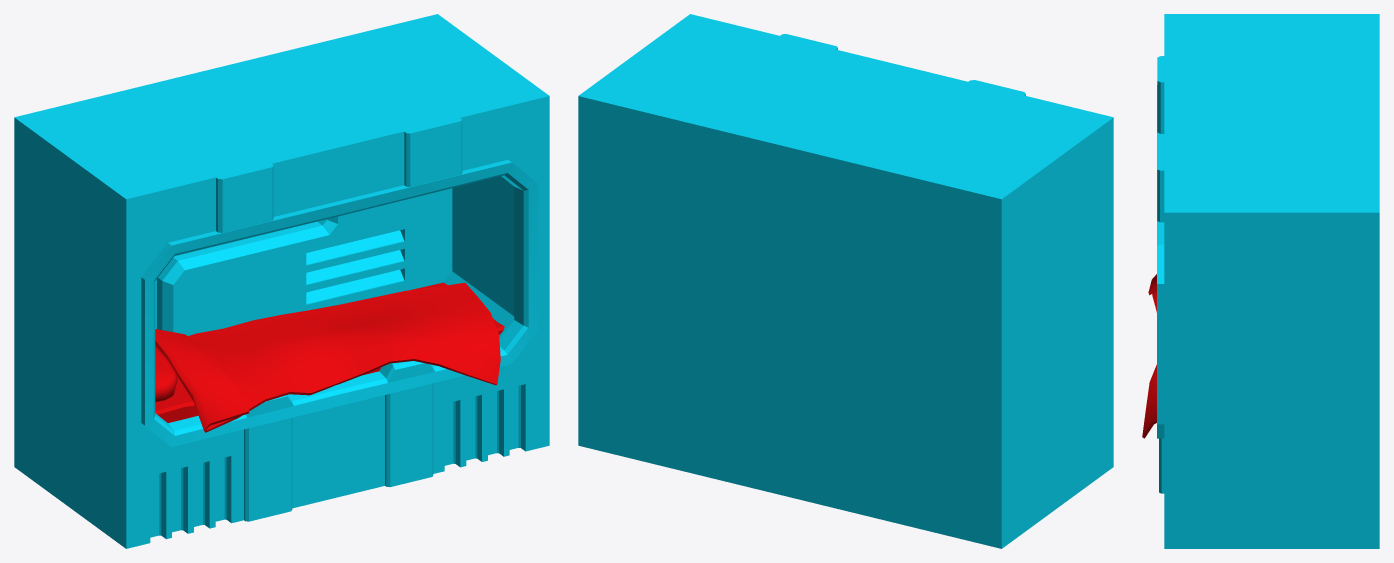
Rendered from PropBed.fbx.
The picture shows the model from 3 angles, left to right: view 1: azimuth 30°, elevation 25°; view 2: azimuth 150°, elevation 25°; view 3: azimuth 270°, elevation 25°; orthographic projection. The views are drawn at different scales.
Parts seen in each view (by area): view 1: CellBed.001, BedStuff.001; view 2: CellBed.001; view 3: CellBed.001, BedStuff.001.
Boxes of the visible parts, bbox=[...] form: CellBed.001: bbox=[14, 14, 549, 548]; BedStuff.001: bbox=[155, 282, 504, 432]; CellBed.001: bbox=[578, 14, 1113, 548]; CellBed.001: bbox=[1157, 14, 1379, 548]; BedStuff.001: bbox=[1142, 274, 1156, 438].
Size of the model in its own units: 900 by 710 by 455.
